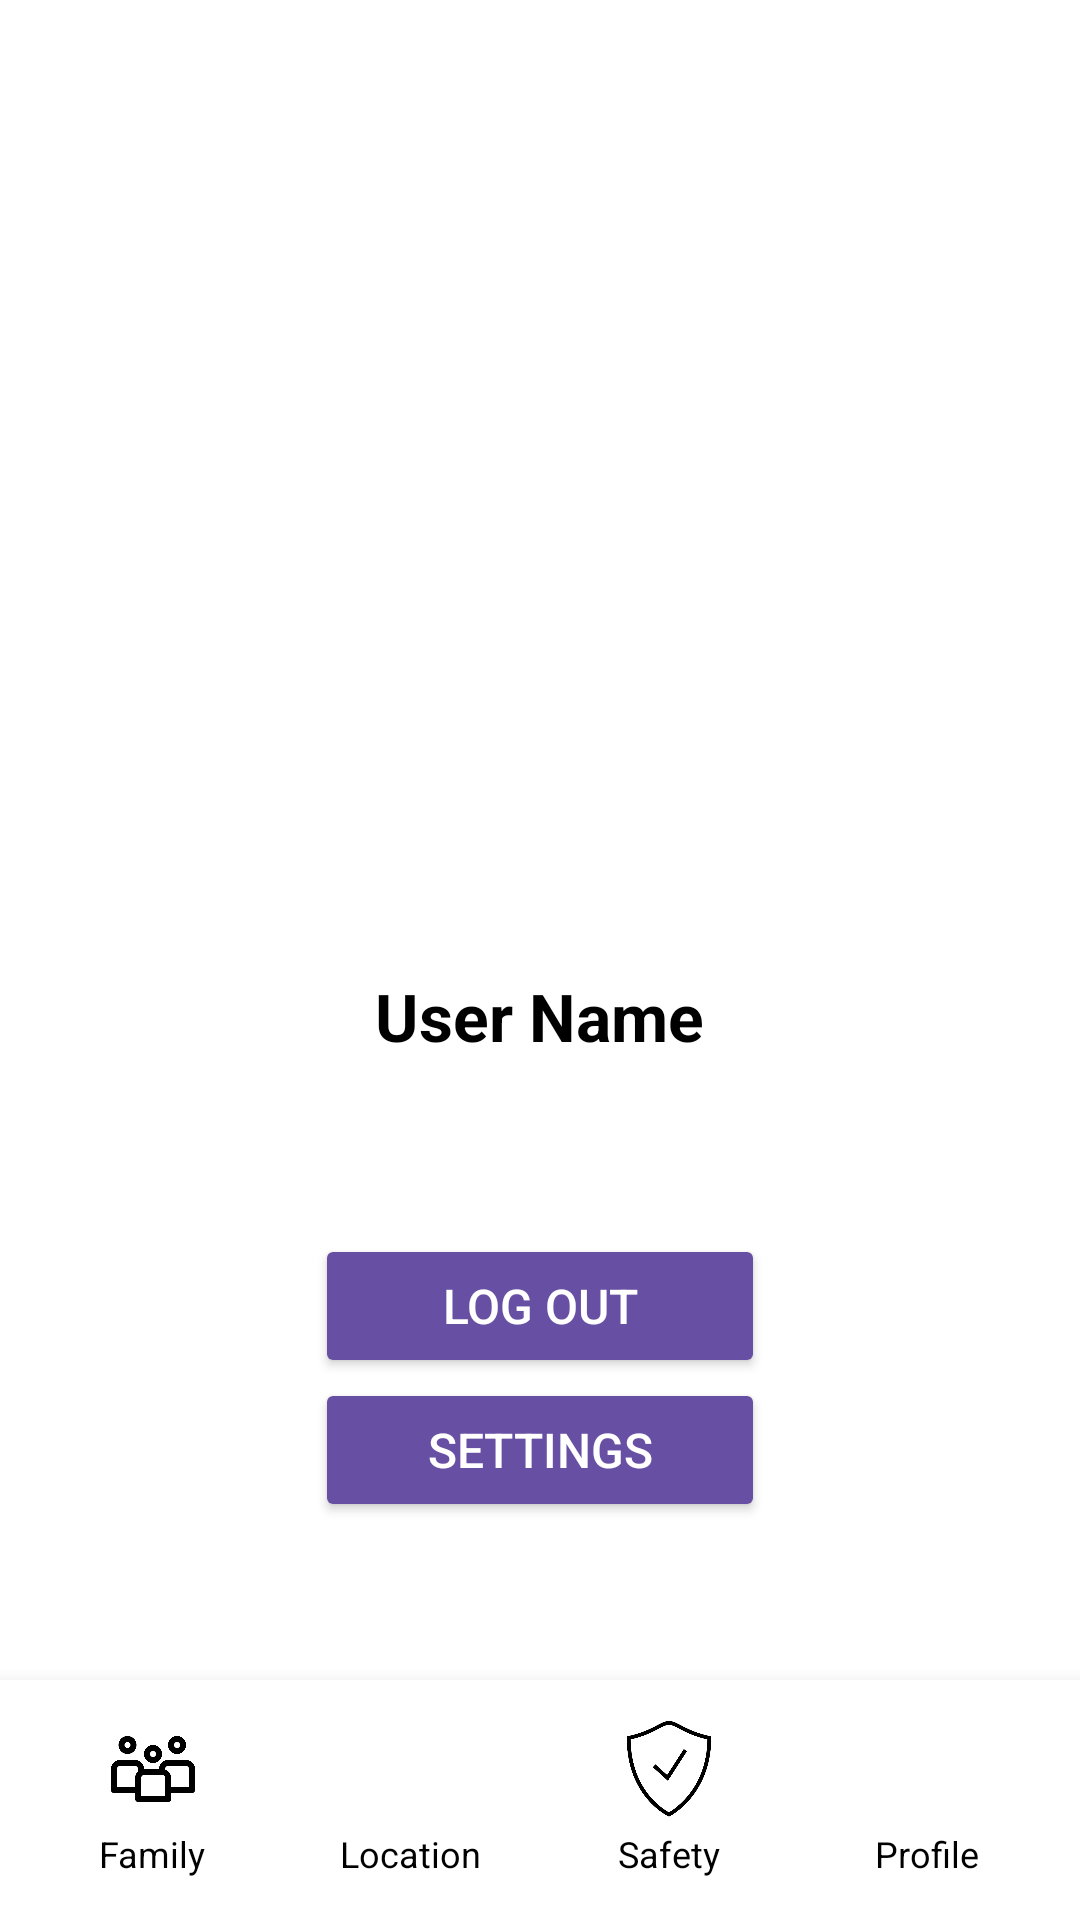

Locate icon controls on the screen. Image size 1080px x 1920px, boxes as (x1, y1, x2, y2).
users group members team: (111, 1736, 195, 1802)
